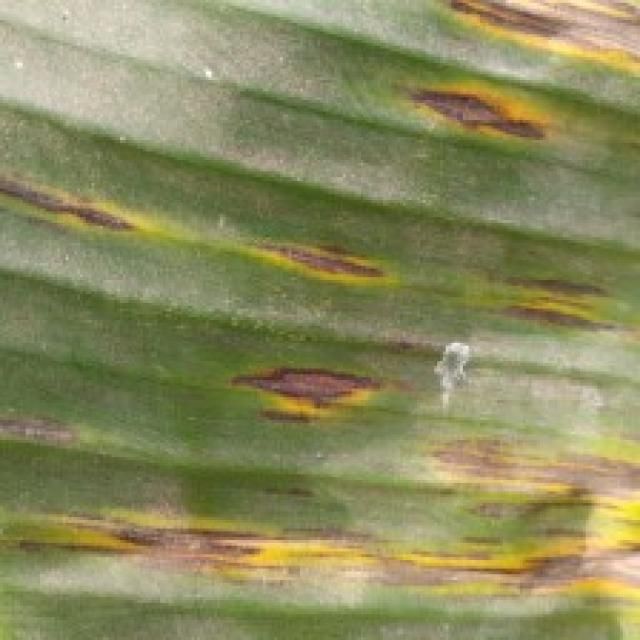Early_leaf_spot: (17, 424, 633, 614), (469, 234, 640, 354), (216, 338, 396, 449), (0, 149, 171, 262), (214, 211, 416, 305), (443, 0, 640, 86), (400, 65, 553, 168), (0, 381, 95, 472)
